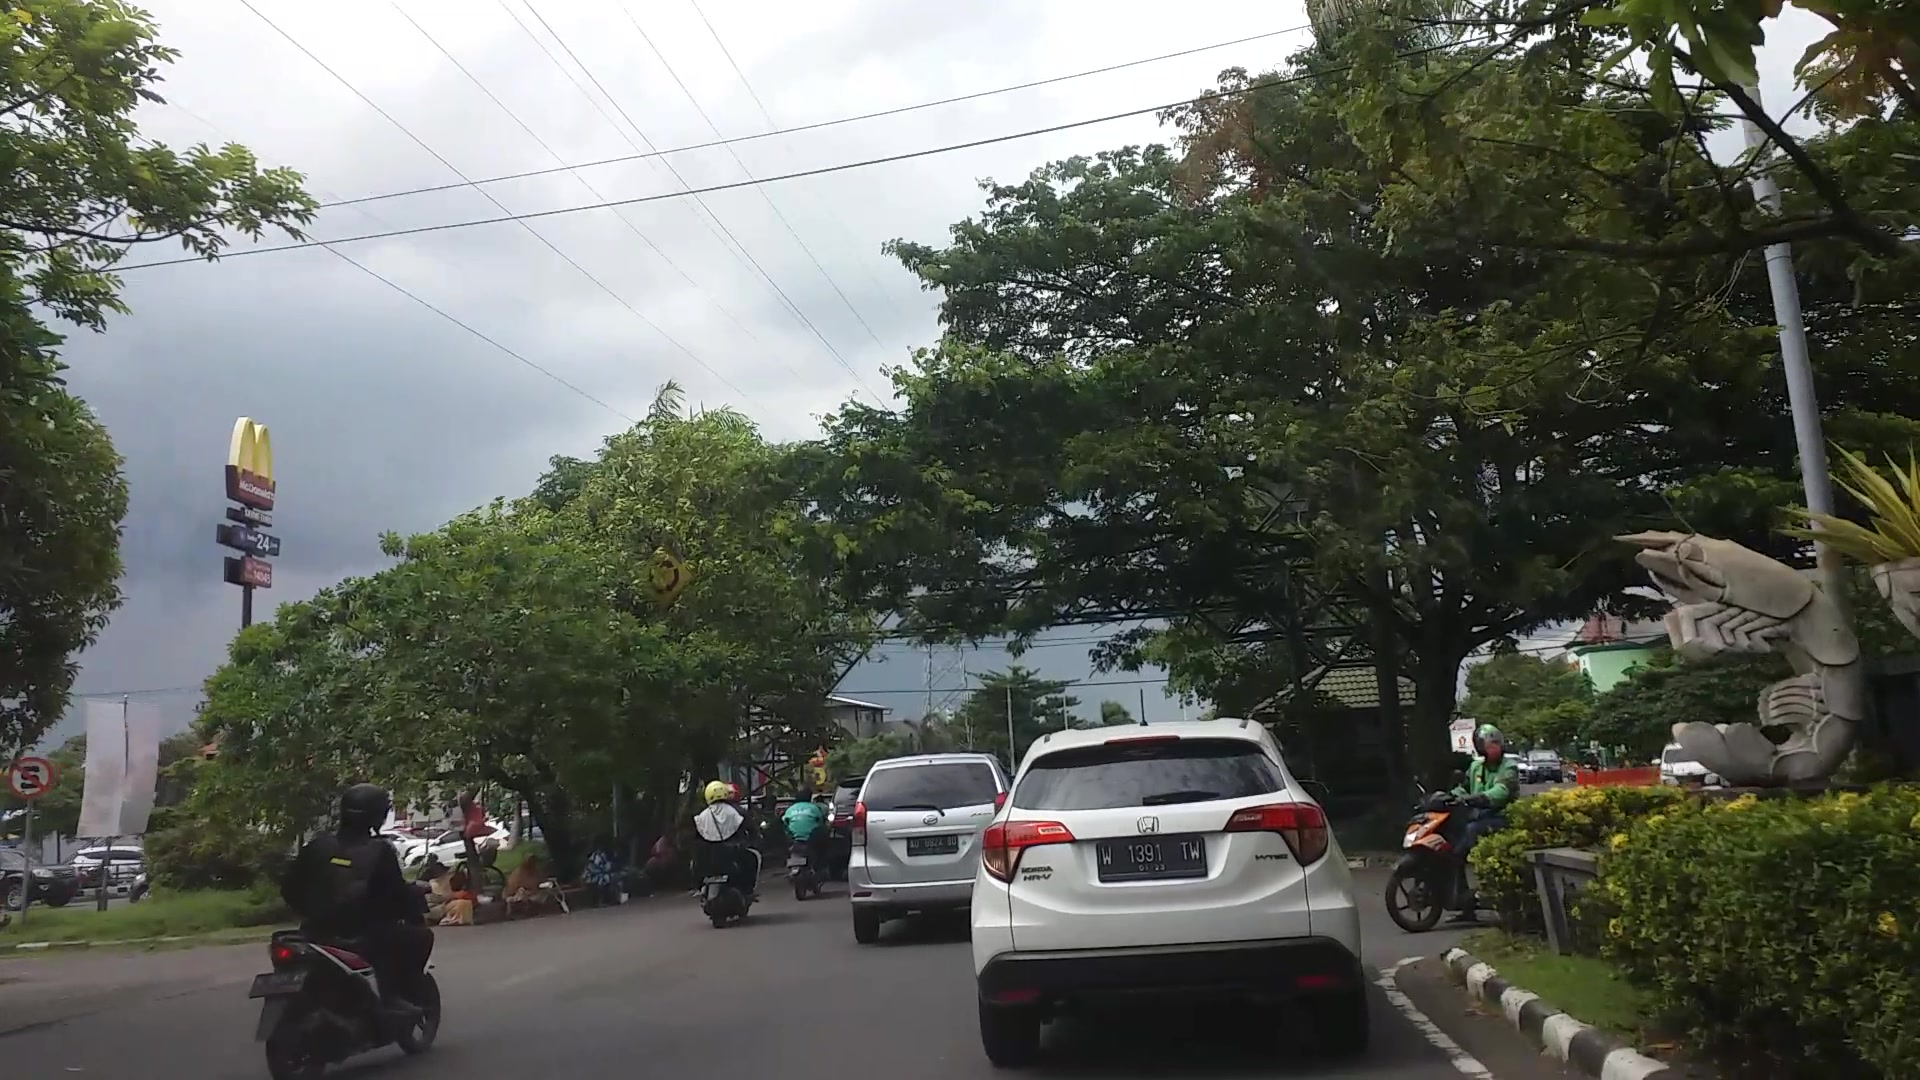plate_positive: (1097, 837, 1207, 880)
